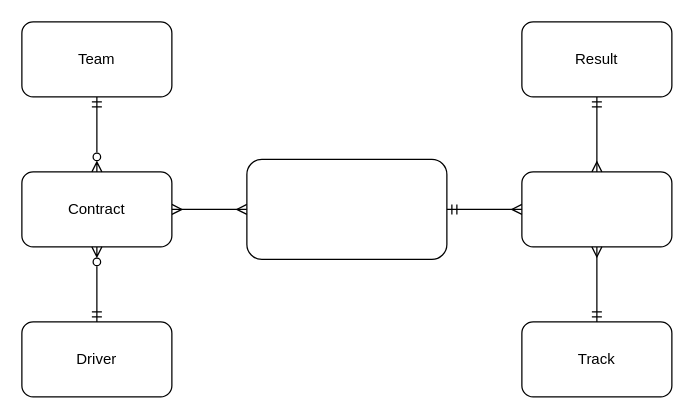
This 694x419 diagram has some shape labels left out. Each missing label, with the centre of its shape:
"F1 Season" belongs at [346,208].
"Race" belongs at [596,209].
